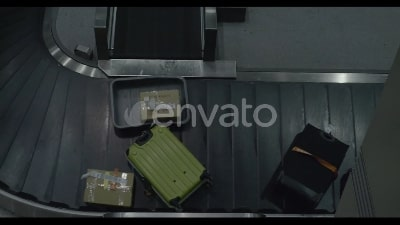baggage: (121, 124, 214, 209), (271, 123, 348, 206), (78, 168, 135, 213), (134, 93, 181, 122)
